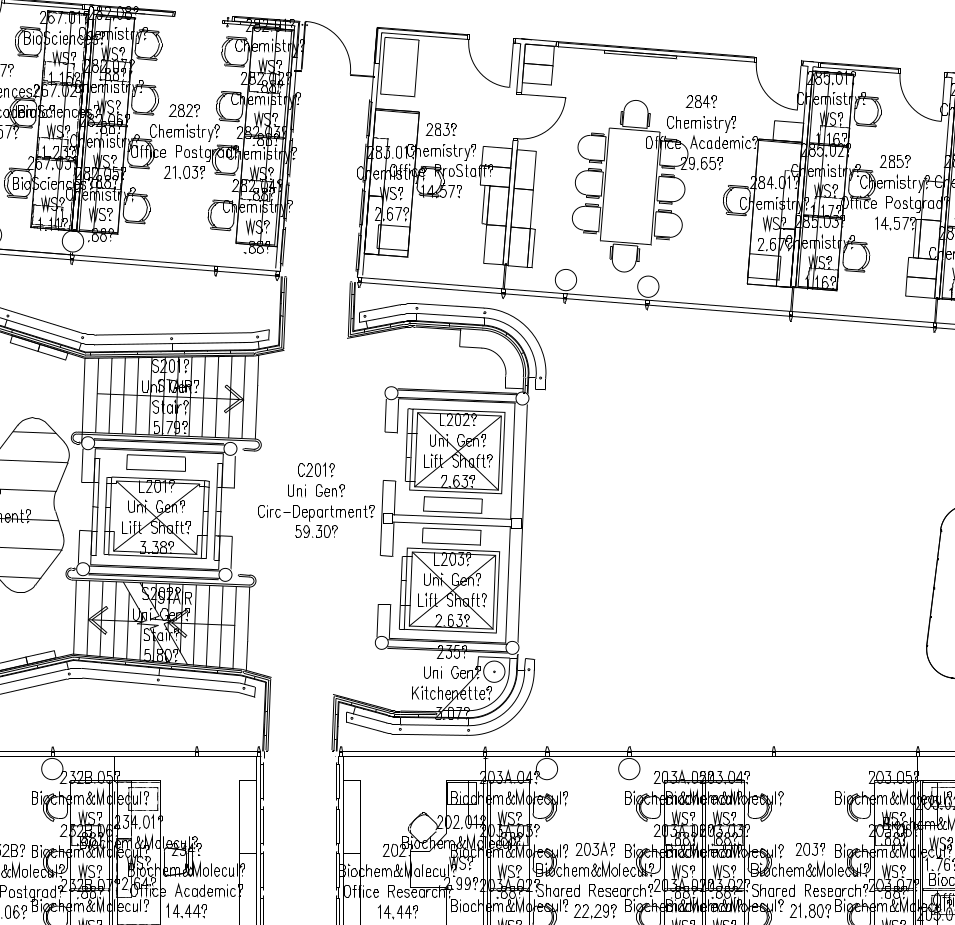door: (301, 18, 356, 80), (752, 61, 802, 115), (519, 89, 569, 143), (468, 37, 518, 91), (895, 73, 945, 122)
